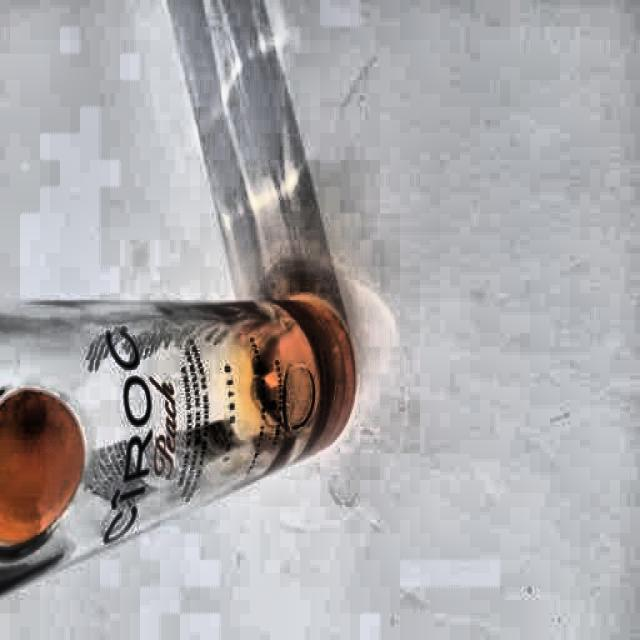glass: (0, 296, 359, 596)
